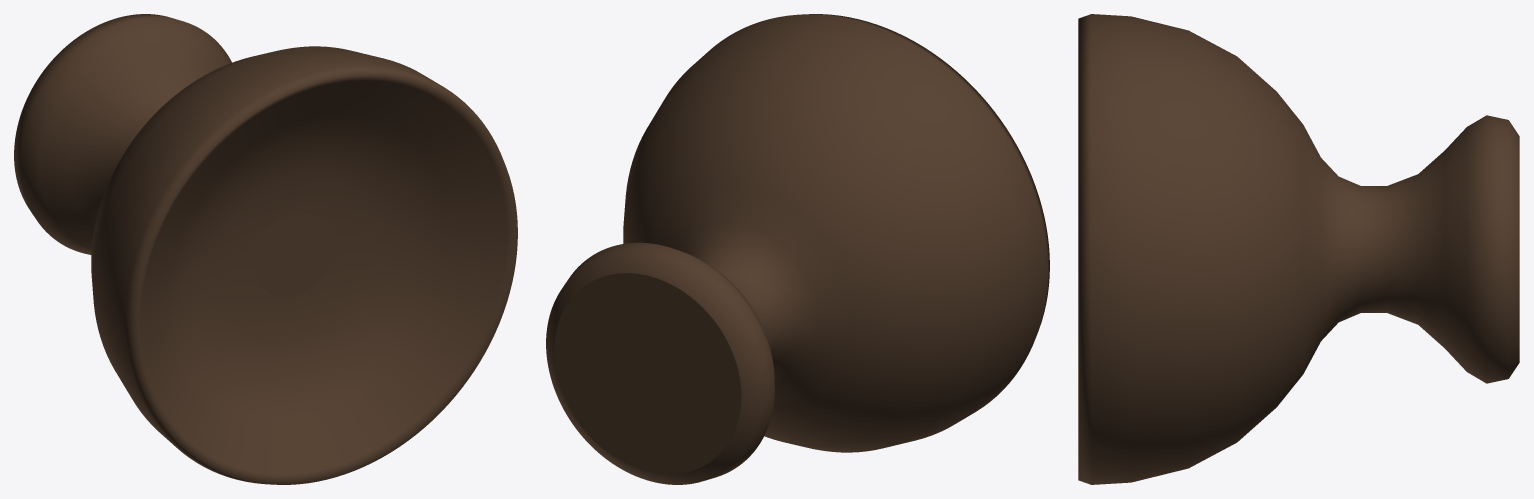
File: eurofit-k-62301borb-v3.glb
3 renders of one model, left to right at view 1: azimuth 30°, elevation 25°; view 2: azimuth 150°, elevation 25°; view 3: azimuth 270°, elevation 25°, orthographic. The views are drawn at different scales.
Visible parts, largest first — view 1: K62301 continuous bowl and bell foot; view 2: K62301 continuous bowl and bell foot; view 3: K62301 continuous bowl and bell foot.
Part boxes in pixels (x1=…): K62301 continuous bowl and bell foot: x1=14, y1=14, x2=517, y2=484; K62301 continuous bowl and bell foot: x1=546, y1=14, x2=1049, y2=484; K62301 continuous bowl and bell foot: x1=1078, y1=14, x2=1519, y2=484.
Size of the model in its own units: 0.032 by 0.032 by 0.03.
